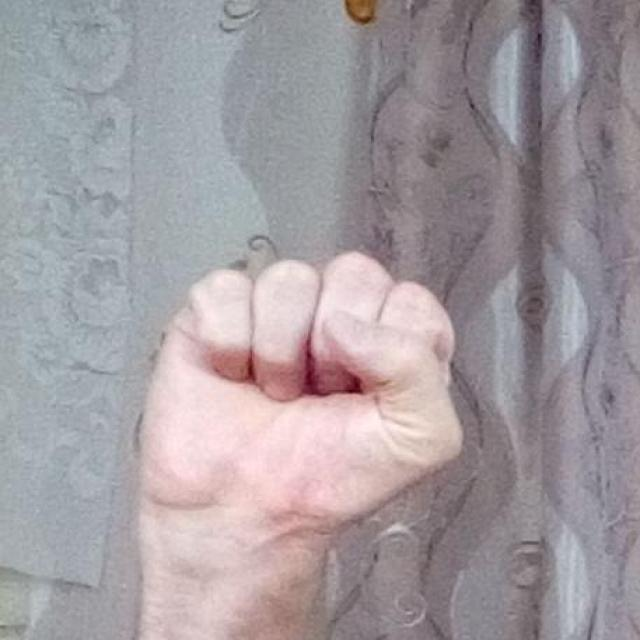hand: (127, 241, 465, 639)
